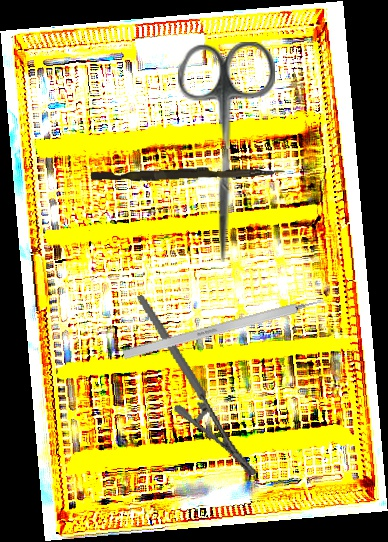Hook Surgical: (122, 292, 336, 361)
Iris Scissors: (178, 42, 275, 262)
Needle Holder: (136, 278, 258, 492)
Pusher: (90, 161, 286, 186)
